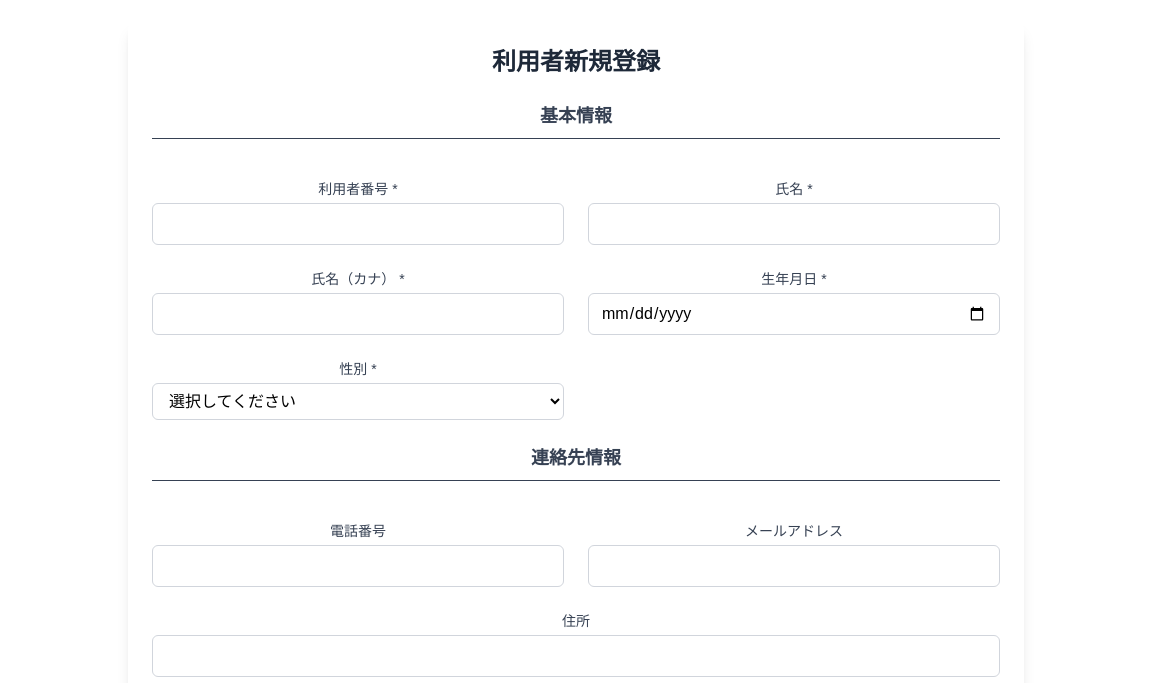
ClientForm › エラーハンドリング › 送信エラー時にエラーメッセージが表示される
This screenshot has width=1152, height=683.
//  必須項目を入力
Type "CL006" into the field labelled "利用者番号 *".
click(358, 224); type("CL006")  # box [152,203,564,245]
Type "佐々木太郎" into the field labelled "氏名 *".
click(794, 224); type("佐々木太郎")  # box [588,203,1000,245]
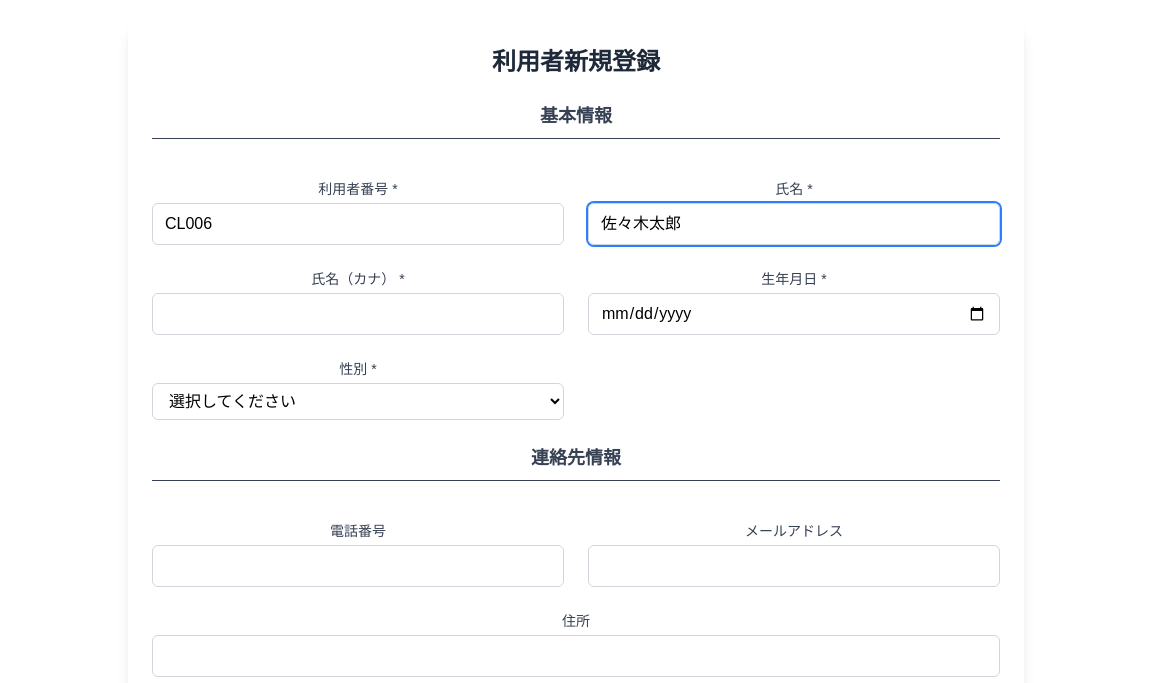
Type "ササキタロウ" into the field labelled "氏名（カナ） *".
click(358, 314); type("ササキタロウ")  # box [152,293,564,335]
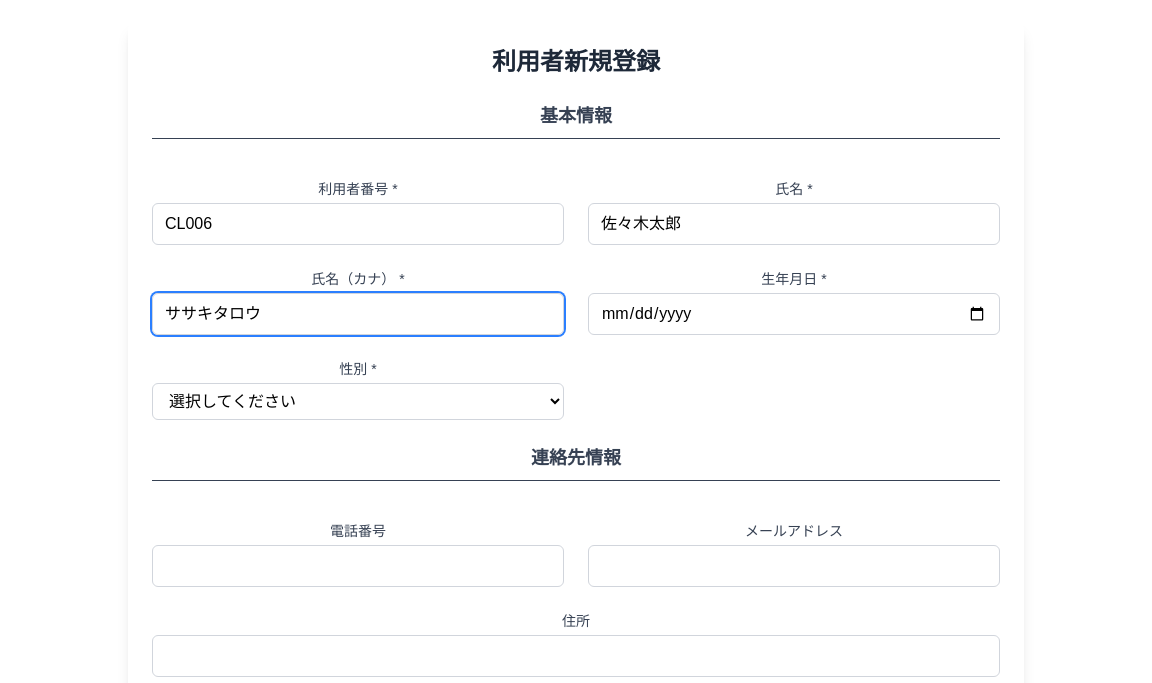
Type "1988-11-30" into the date field labelled "生年月日 *".
click(794, 314); type("1988-11-30")  # box [588,293,1000,335]
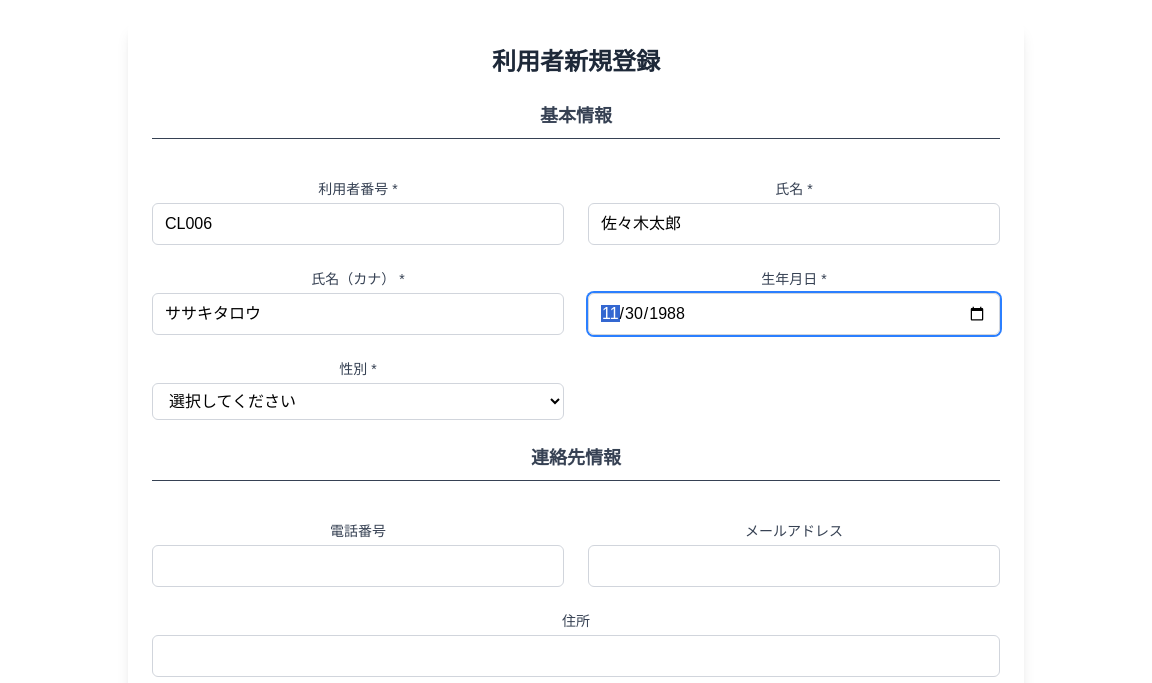
Select "男性" in the dropdown labelled "性別 *" at [358, 402], box [152,383,564,420]
(page scrolled)
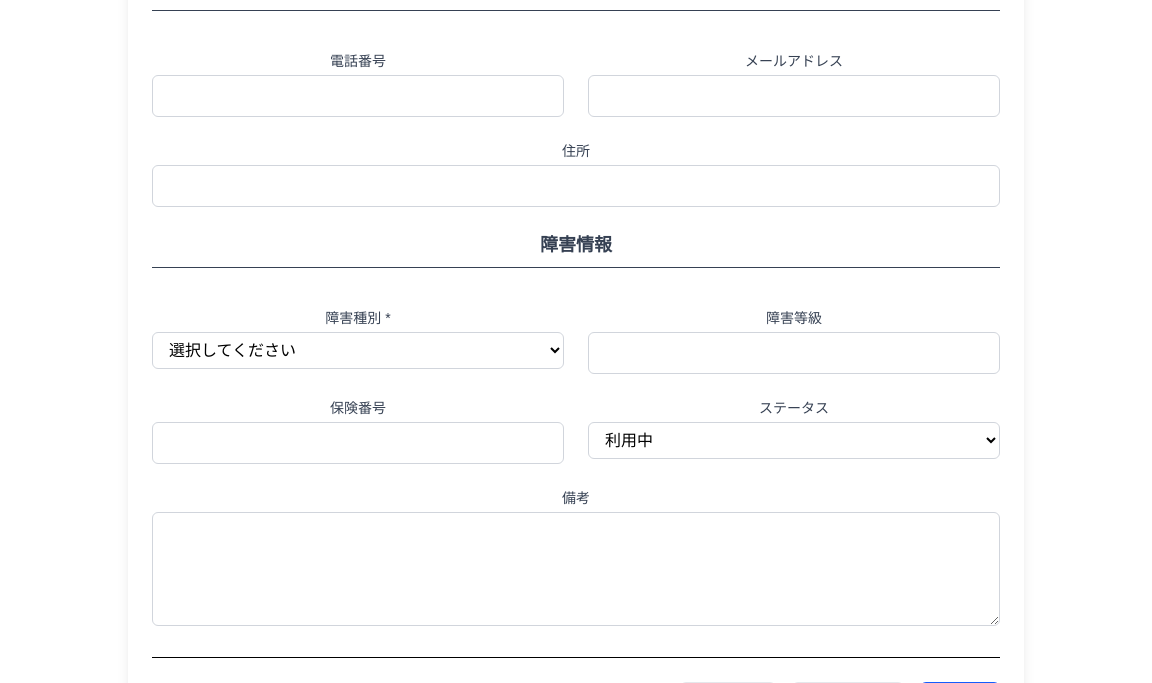
Select "感覚障害" in the dropdown labelled "障害種別 *" at [358, 350], box [152,332,564,369]
(page scrolled)
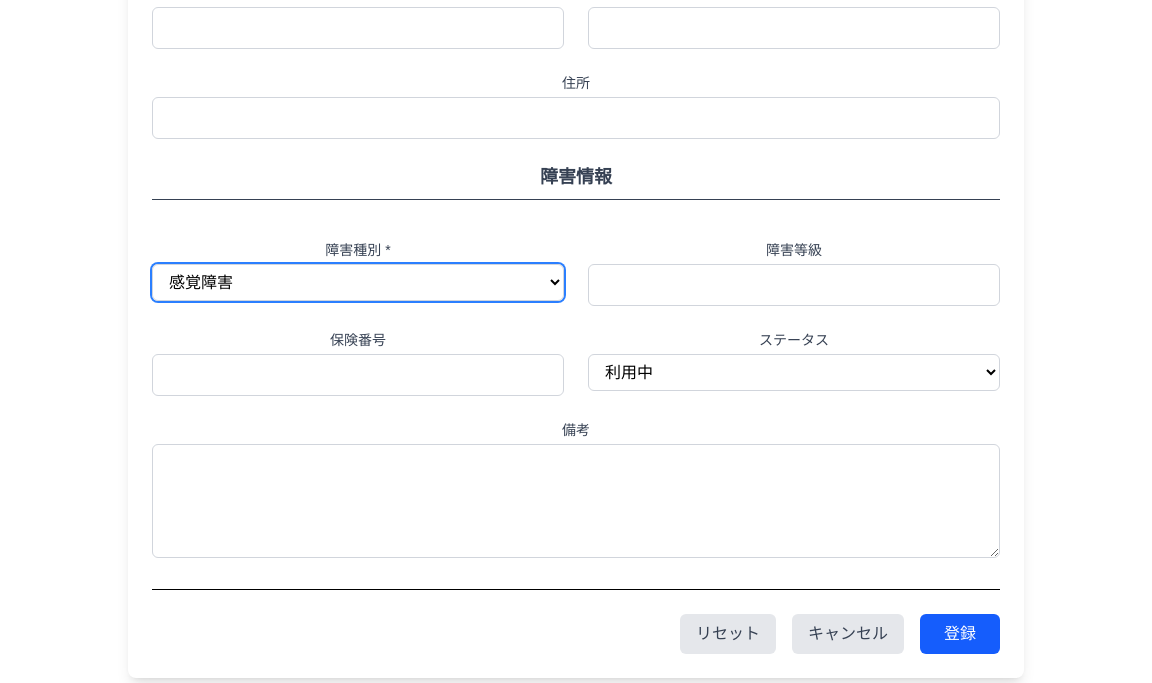
Click the button "登録".
click(960, 634)  # box [920,614,1000,654]
(page scrolled)
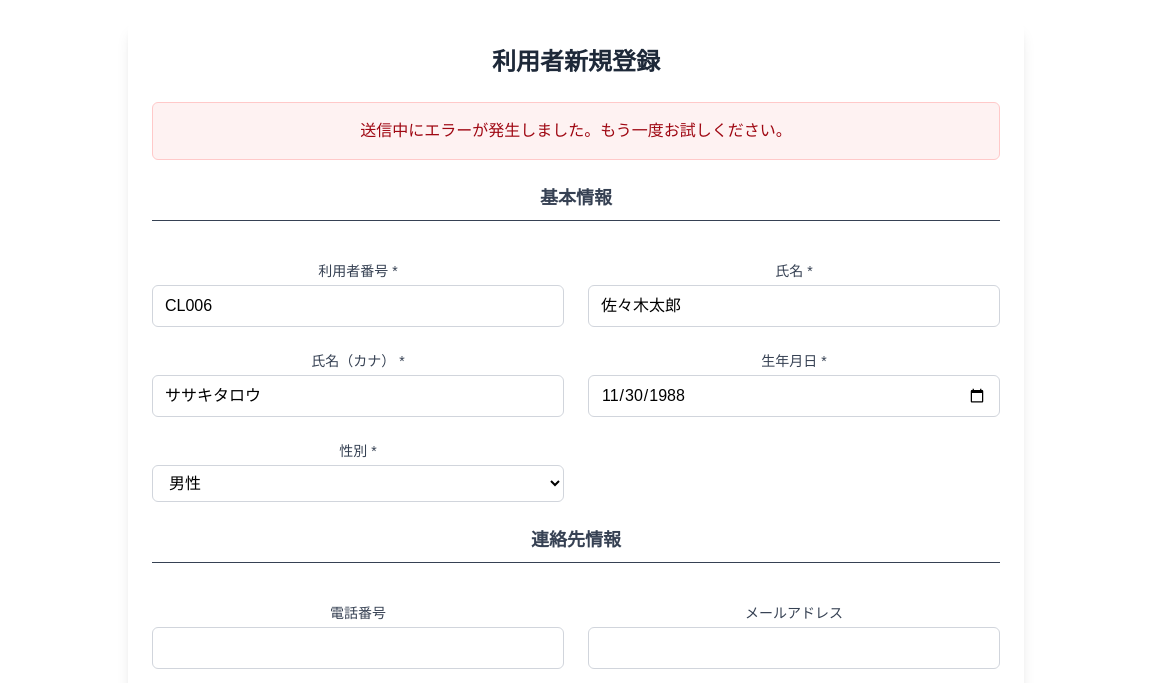
Result: the text "送信中にエラーが発生しました。もう一度お試しください。" is shown at [360,122,792,139]
